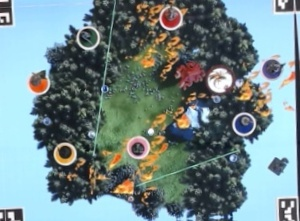blue: (230, 108, 260, 137)
green: (75, 23, 102, 51)
orange: (26, 69, 53, 94)
pink: (125, 133, 153, 159)
red: (156, 3, 185, 30)
violet: (259, 55, 286, 80)
yellow: (50, 140, 79, 167)
